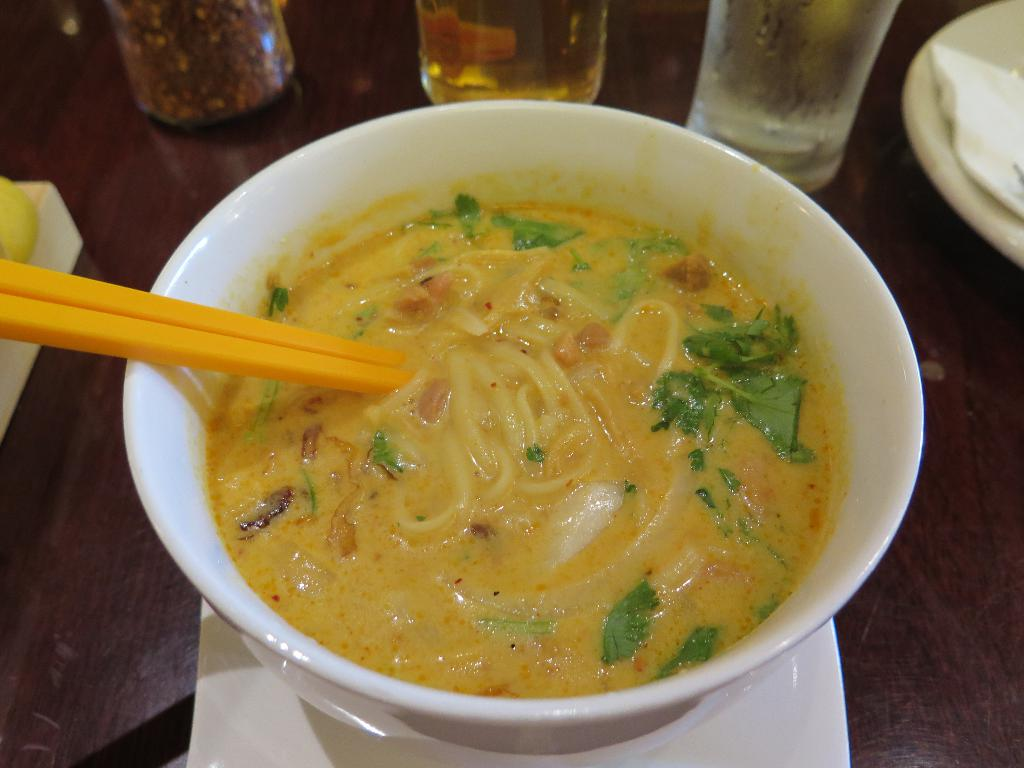plate: (900, 0, 1023, 264)
